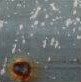Corrosion: (9, 59, 34, 82)
